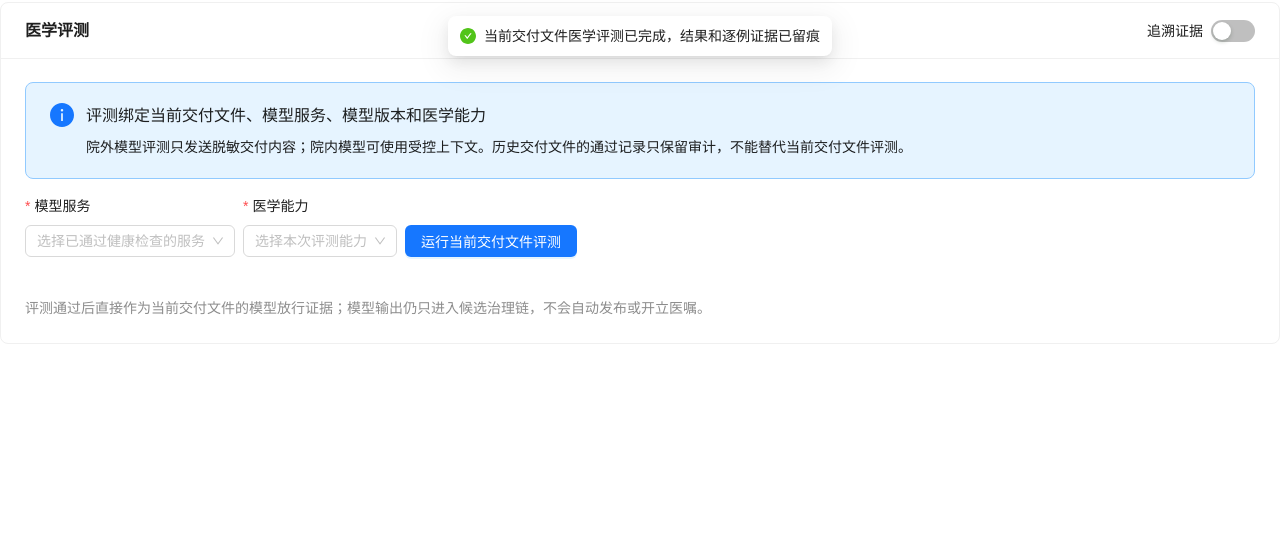
Test case: MedicalEvaluationPanel › 证据详情打开后可追溯模型服务与医学能力原始合同
This screenshot has width=1280, height=555.
Click the switch named "证据详情". click: click(1233, 31)
box: [1211,20,1255,42]
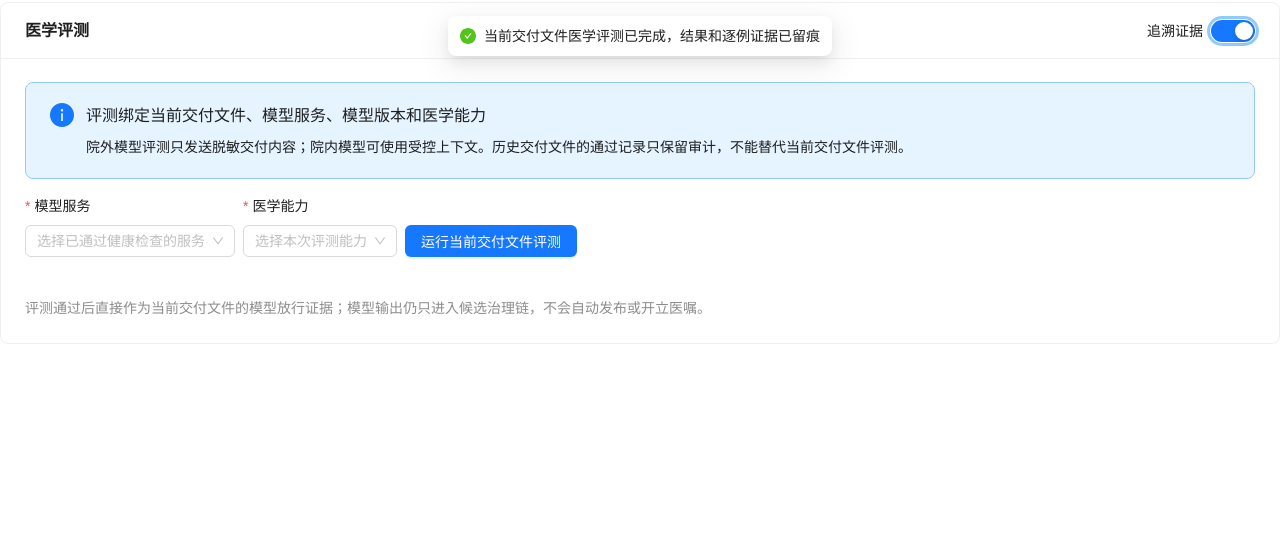
Click the dropdown labelled "模型服务". click: click(65, 206)
box: [25,195,104,217]
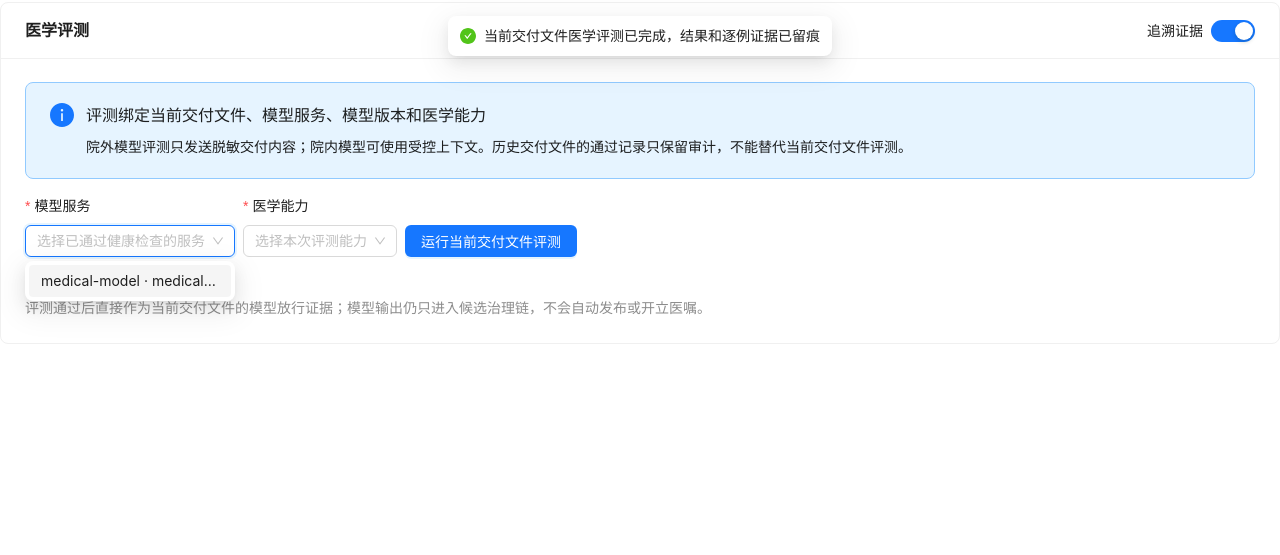
Now the text "medical-model · medical-v1" is shown, box [41,272,219,289]
Click the dropdown labelled "医学能力". click: click(283, 206)
box: [243,195,322,217]
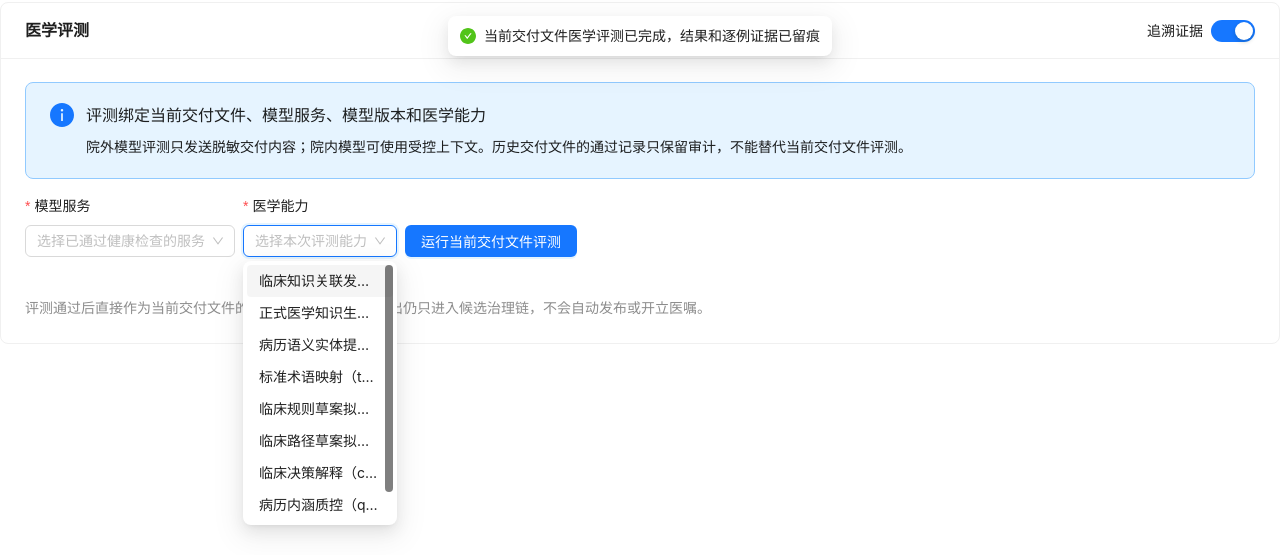
Now the text "临床规则草案拟定（rule.draft）" is shown, box [259,400,381,417]
